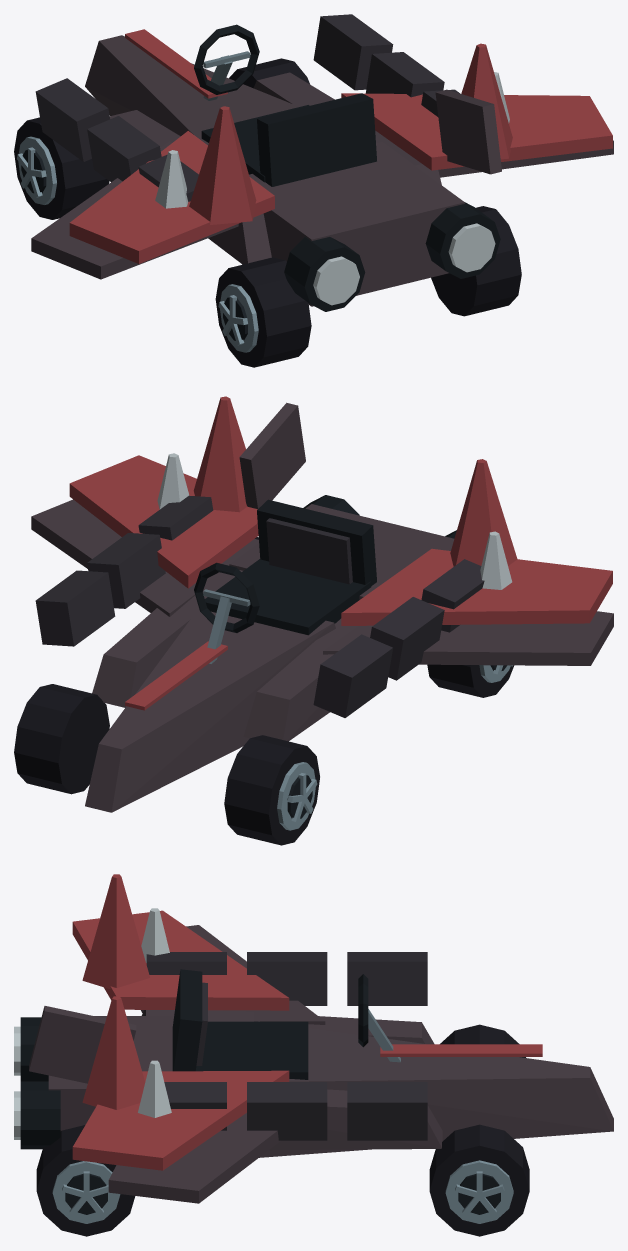
Rendered from kart.glb.
3 views of the same model, one above another, from view 1: azimuth 30°, elevation 25°; view 2: azimuth 150°, elevation 25°; view 3: azimuth 270°, elevation 25° (orthographic). The views are drawn at different scales.
Parts seen in each view (by area): view 1: identity-starfighter-starfighter-flight-planform, identity-starfighter-motif-wings, identity-starfighter-motif-armor, identity-starfighter-driver-cockpit, identity-starfighter-motif-crystals, wheel-rear-left, wheel-front-left, wheel-rear-right, wheel-front-right; view 2: identity-starfighter-starfighter-flight-planform, identity-starfighter-motif-wings, identity-starfighter-motif-armor, identity-starfighter-driver-cockpit, identity-starfighter-motif-crystals, wheel-front-left, wheel-front-right, wheel-rear-left; view 3: identity-starfighter-starfighter-flight-planform, identity-starfighter-motif-armor, identity-starfighter-motif-wings, identity-starfighter-motif-crystals, identity-starfighter-driver-cockpit, wheel-front-right, wheel-rear-right, wheel-front-left.
Part boxes in pixels (x1,y1,x2,y2): identity-starfighter-starfighter-flight-planform: (31,29,613,311); identity-starfighter-motif-wings: (69,93,612,263); identity-starfighter-motif-armor: (35,14,459,201); identity-starfighter-driver-cockpit: (194,24,376,186); identity-starfighter-motif-crystals: (155,43,512,224); wheel-rear-left: (215,257,311,367); wheel-front-left: (14,117,109,219); wheel-rear-right: (431,206,521,316); wheel-front-right: (229,58,309,88); identity-starfighter-starfighter-flight-planform: (31,402,613,812); identity-starfighter-motif-wings: (69,455,612,625); identity-starfighter-motif-armor: (35,495,484,717); identity-starfighter-driver-cockpit: (194,499,376,663); identity-starfighter-motif-crystals: (157,396,517,589); wheel-front-left: (224,735,319,845); wheel-front-right: (14,684,109,794); wheel-rear-left: (427,664,514,697); identity-starfighter-starfighter-flight-planform: (14,925,613,1203); identity-starfighter-motif-armor: (146,952,427,1140); identity-starfighter-motif-wings: (72,910,289,1170); identity-starfighter-motif-crystals: (82,874,171,1117); identity-starfighter-driver-cockpit: (172,969,400,1079); wheel-front-right: (429,1124,529,1236); wheel-rear-right: (36,1125,135,1236); wheel-front-left: (440,1024,525,1057).
Size of the model in its own units: 3.14 by 1.32 by 2.99.
